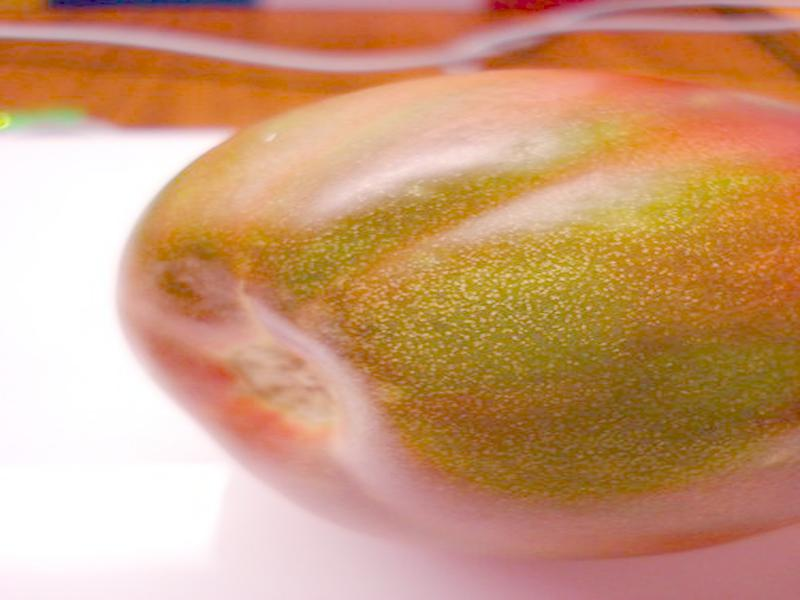Tomato: (118, 67, 797, 558)
